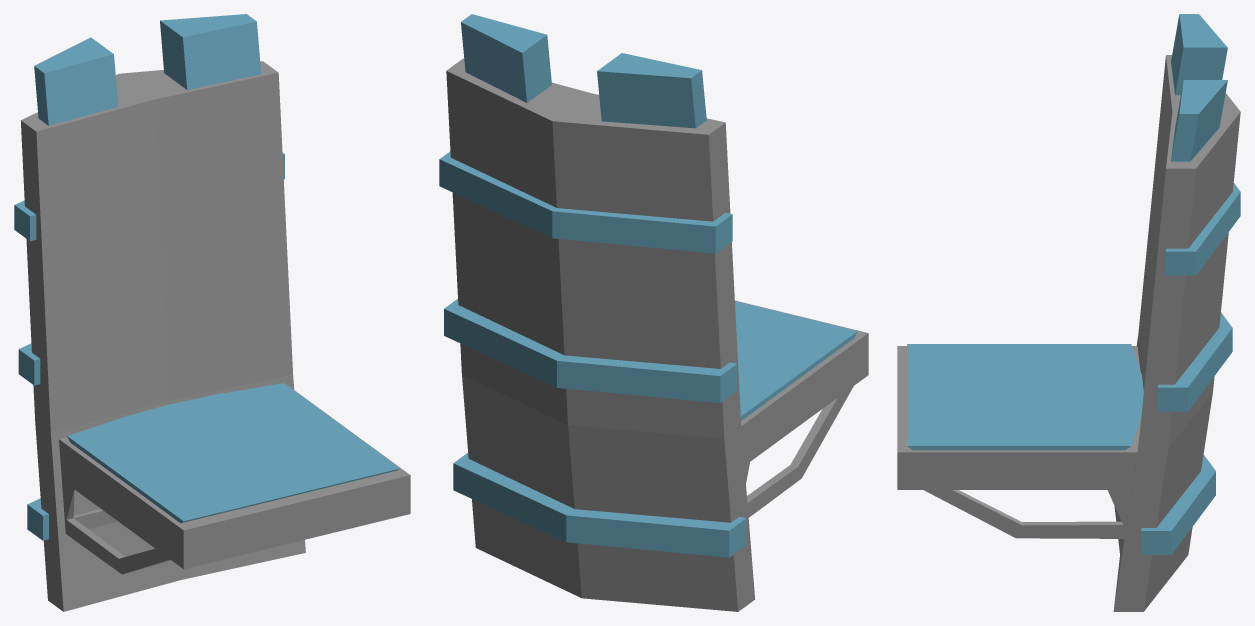
Rendered from CaptainChair.fbx.
The picture shows the model from 3 angles, left to right: view 1: azimuth 30°, elevation 25°; view 2: azimuth 150°, elevation 25°; view 3: azimuth 270°, elevation 25°; orthographic projection. The views are drawn at different scales.
Visible parts, largest first — view 1: Cube.009; view 2: Cube.009; view 3: Cube.009.
Boxes of the visible parts, <box> form: Cube.009: <box>14,14,410,611</box>; Cube.009: <box>439,14,868,611</box>; Cube.009: <box>897,14,1240,611</box>.
Size of the model in its own units: 687 by 1313 by 832.
